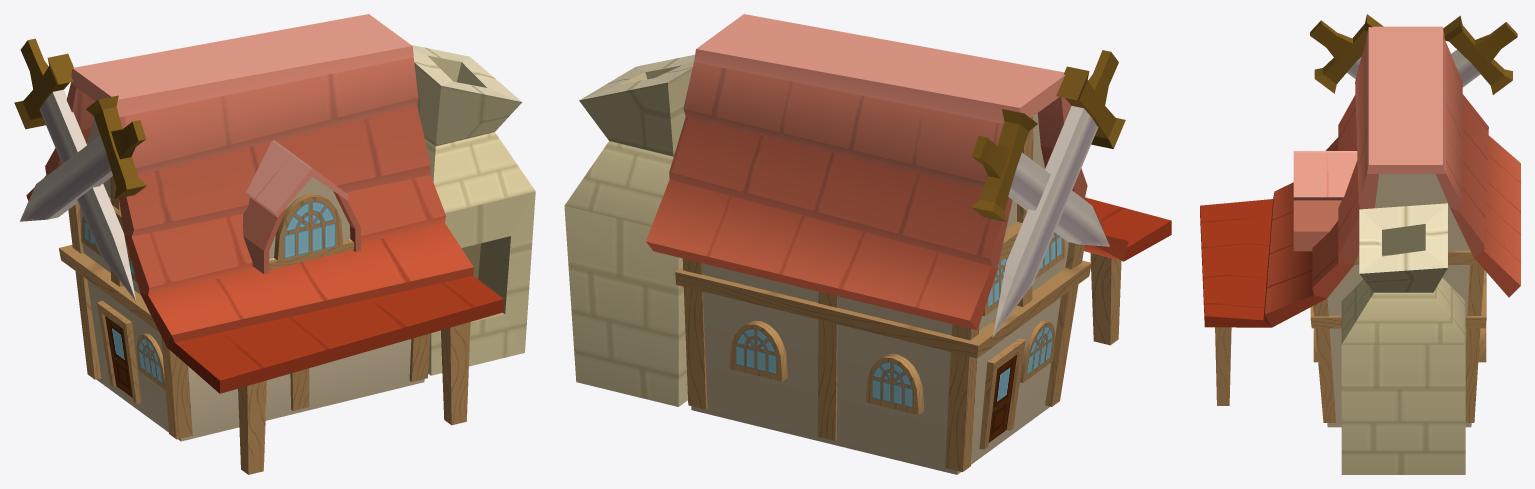
The model's file is building_weapon_lv3.FBX.
The picture shows the model from 3 angles, left to right: view 1: azimuth 30°, elevation 25°; view 2: azimuth 150°, elevation 25°; view 3: azimuth 270°, elevation 25°; orthographic projection. The views are drawn at different scales.
Visible parts, largest first — view 1: building_weapon_roof_lv3, building_weapon_lv3, building_weapon_main_lv3; view 2: building_weapon_roof_lv3, building_weapon_main_lv3, building_weapon_lv3; view 3: building_weapon_roof_lv3, building_weapon_main_lv3, building_weapon_lv3.
Boxes of the visible parts, box(x1,y1,x2,y2) form: building_weapon_roof_lv3: box(26, 14, 503, 393); building_weapon_lv3: box(14, 38, 470, 474); building_weapon_main_lv3: box(80, 45, 535, 441); building_weapon_roof_lv3: box(646, 14, 1171, 330); building_weapon_main_lv3: box(564, 54, 1068, 474); building_weapon_lv3: box(675, 50, 1125, 472); building_weapon_roof_lv3: box(1200, 26, 1520, 327); building_weapon_main_lv3: box(1327, 174, 1471, 474); building_weapon_lv3: box(1215, 14, 1517, 422).
Size of the model in its own units: 505 by 389 by 389.
